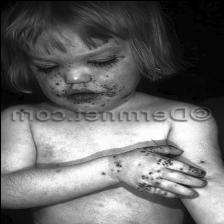Toxin: (100, 78, 126, 100), (156, 156, 174, 166), (186, 164, 204, 174), (52, 80, 60, 86)
